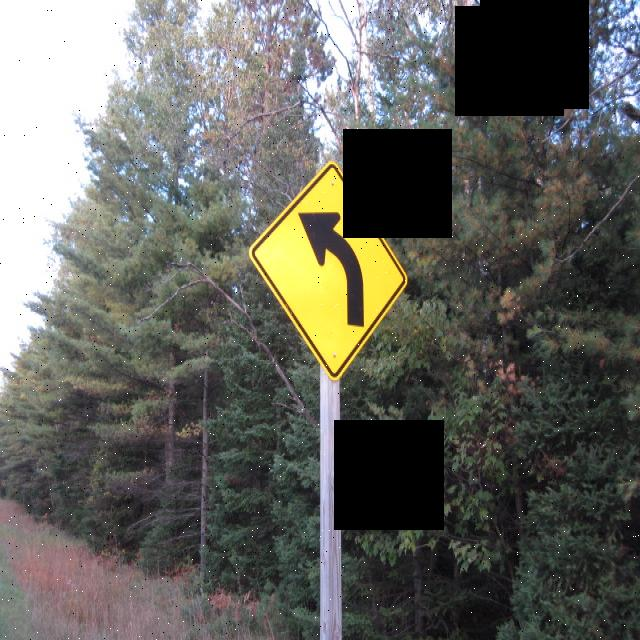warning: (241, 157, 416, 390)
